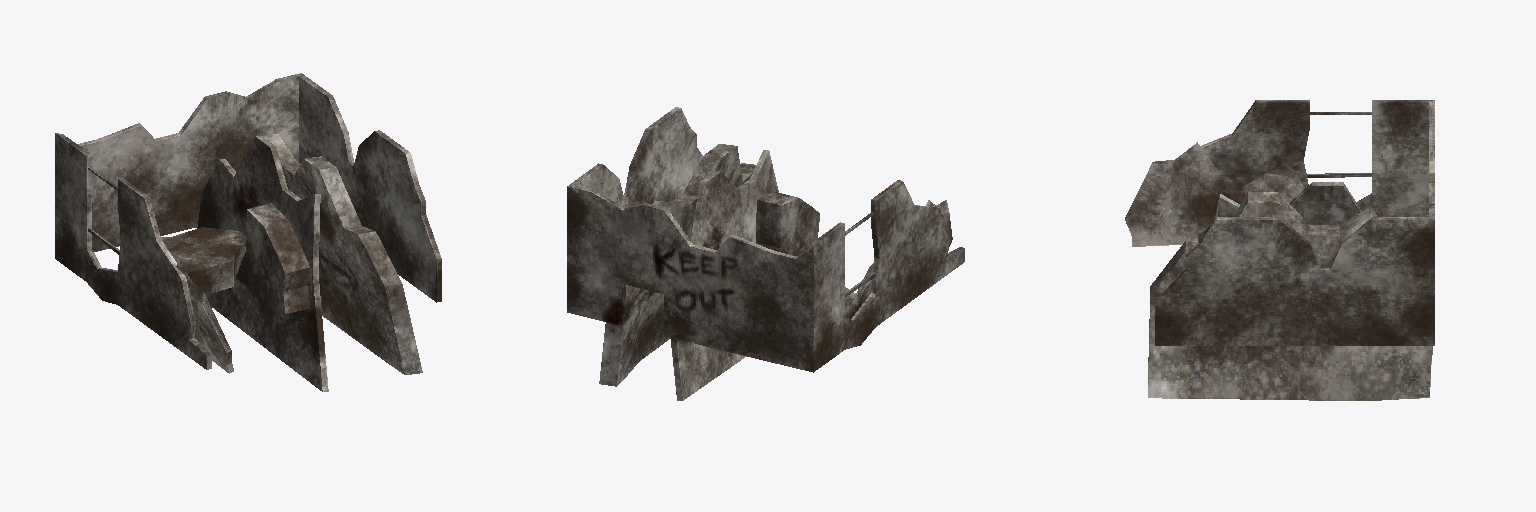
3 views of the same model, side by side, from view 1: azimuth 30°, elevation 25°; view 2: azimuth 150°, elevation 25°; view 3: azimuth 270°, elevation 25° (orthographic).
Parts seen in each view (by area): view 1: EdificioRuinas002; view 2: EdificioRuinas002; view 3: EdificioRuinas002.
Part boxes in pixels (x1,y1,x2,y2): EdificioRuinas002: (55,73,441,391); EdificioRuinas002: (567,107,964,400); EdificioRuinas002: (1125,100,1434,400).
Bounding box in the file's own units: 88.3 × 65.84 × 96.32.
1 materials, 1 textured.